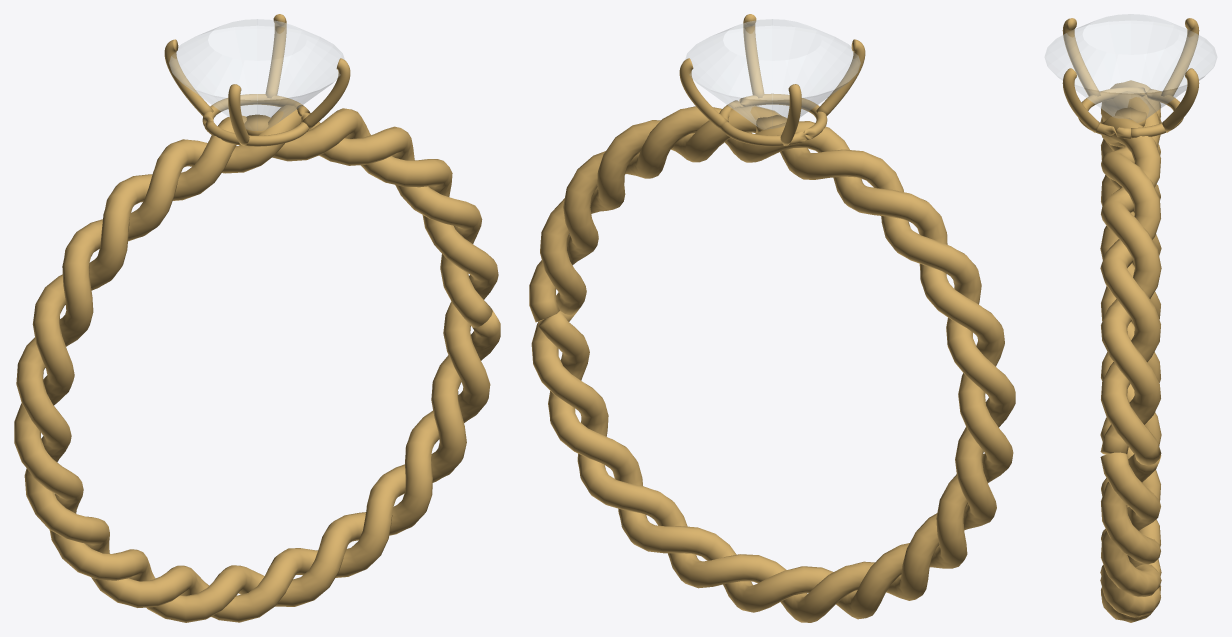
File: bands-rope.glb
3 renders of one model, left to right at view 1: azimuth 30°, elevation 25°; view 2: azimuth 150°, elevation 25°; view 3: azimuth 270°, elevation 25°, orthographic. The views are drawn at different scales.
Visible parts, largest first — view 1: Band strand, Band strand.001, Gem, Lower gallery, Prong.001, Prong, Prong.003, Prong.002; view 2: Band strand, Band strand.001, Gem, Lower gallery, Prong.002, Prong.003, Prong, Prong.001; view 3: Band strand.001, Band strand, Gem, Lower gallery, Prong.001, Prong.002, Prong, Prong.003, Head stem.
Part boxes in pixels (<box>): Band strand: <box>16,105,500,622</box>; Band strand.001: <box>14,108,498,622</box>; Gem: <box>169,19,344,130</box>; Lower gallery: <box>202,94,310,146</box>; Prong.001: <box>164,39,213,116</box>; Prong: <box>265,14,286,98</box>; Prong.003: <box>301,58,350,130</box>; Prong.002: <box>228,84,249,145</box>; Band strand: <box>531,105,1015,622</box>; Band strand.001: <box>529,106,1013,619</box>; Gem: <box>685,19,860,129</box>; Lower gallery: <box>719,93,827,146</box>; Prong.002: <box>816,39,865,115</box>; Prong.003: <box>743,14,764,98</box>; Prong: <box>679,58,728,129</box>; Prong.001: <box>780,84,801,145</box>; Band strand.001: <box>1100,91,1161,617</box>; Band strand: <box>1100,80,1161,622</box>; Gem: <box>1044,14,1217,122</box>; Lower gallery: <box>1078,87,1183,138</box>; Prong.001: <box>1161,18,1199,96</box>; Prong.002: <box>1062,18,1100,96</box>; Prong: <box>1162,68,1199,132</box>; Prong.003: <box>1062,68,1099,132</box>; Head stem: <box>1115,107,1146,126</box>.
Size of the model in its own units: 20.21 by 23.24 by 6.5.
